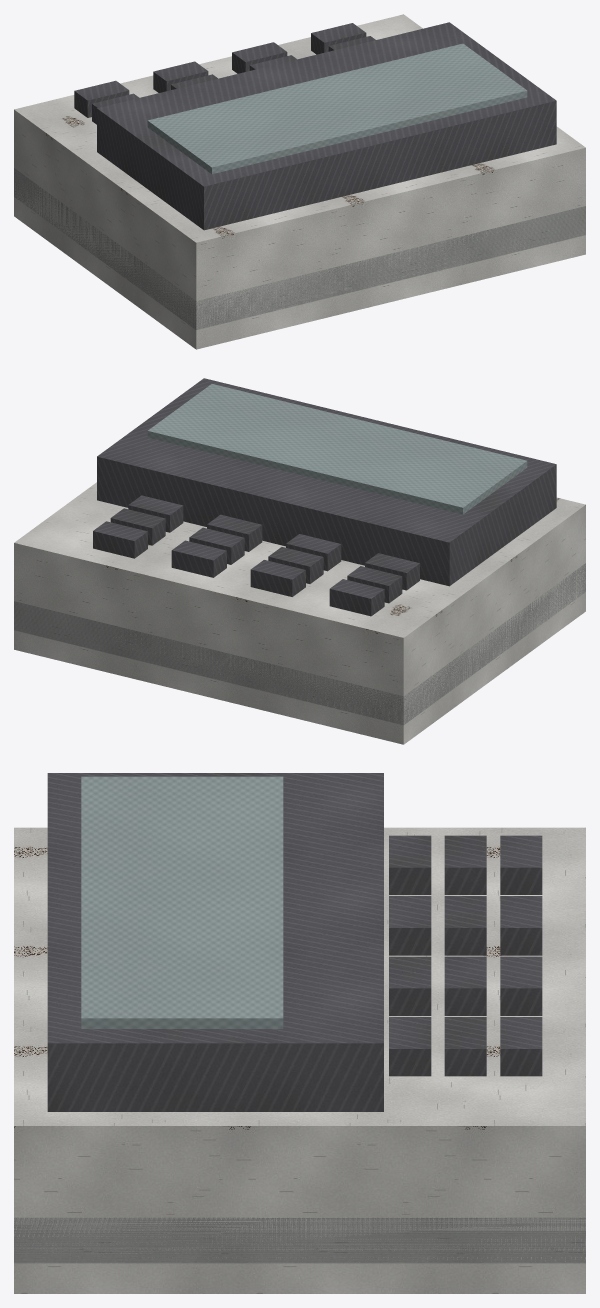
Rendered from register.glb.
3 views of the same model, one above another, from view 1: azimuth 30°, elevation 25°; view 2: azimuth 150°, elevation 25°; view 3: azimuth 270°, elevation 25° (orthographic). The views are drawn at different scales.
Visible parts, largest first — view 1: NC_register; view 2: NC_register; view 3: NC_register.
Part boxes in pixels (x1,y1,x2,y2): NC_register: (14,14,585,349); NC_register: (14,378,585,744); NC_register: (14,773,585,1293).
Size of the model in its own units: 0.42 by 0.162 by 0.34.
4 materials, 4 textured.
